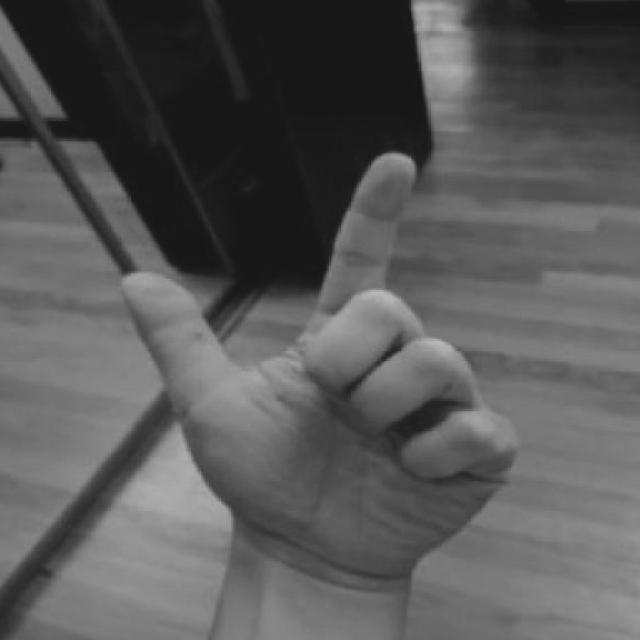L: (118, 141, 536, 599)
